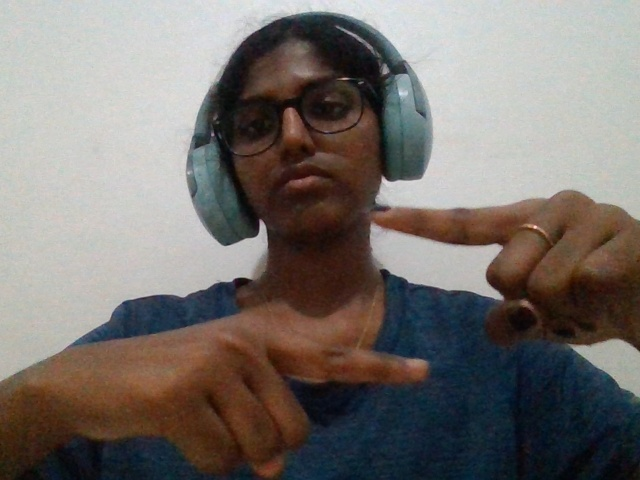Sign: (11, 187, 634, 480)
